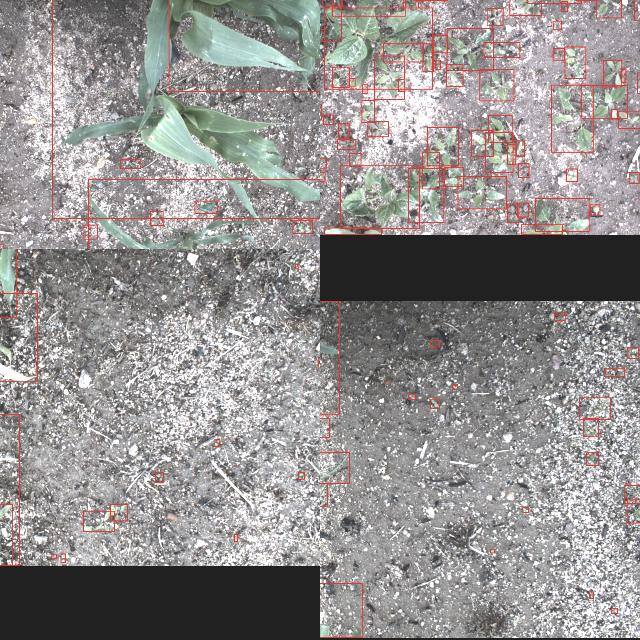crop: (51, 0, 320, 218), (88, 179, 320, 249), (168, 0, 320, 91), (324, 8, 432, 88), (339, 166, 418, 228), (0, 293, 36, 381), (0, 414, 19, 566), (320, 582, 361, 637), (331, 0, 404, 16)
weed: (550, 85, 592, 152), (446, 28, 494, 70), (534, 198, 588, 232), (408, 168, 442, 222), (458, 177, 507, 209), (581, 85, 627, 118), (374, 56, 404, 100), (427, 126, 458, 166), (484, 132, 512, 172), (479, 70, 513, 100), (320, 452, 348, 483), (320, 0, 340, 41), (382, 44, 422, 62), (564, 46, 586, 78), (579, 397, 609, 419), (82, 512, 114, 532), (487, 116, 511, 142), (422, 153, 438, 190), (483, 42, 519, 58), (471, 130, 493, 156), (602, 59, 622, 86), (509, 0, 541, 15), (595, 0, 620, 18), (520, 225, 562, 235), (324, 228, 381, 235), (443, 167, 462, 187), (618, 111, 640, 128), (446, 64, 462, 86), (626, 499, 640, 522), (332, 68, 348, 88), (624, 484, 640, 503), (582, 418, 598, 437), (367, 122, 388, 136), (486, 8, 502, 26), (110, 504, 126, 522), (292, 220, 312, 234), (422, 43, 432, 71), (195, 201, 218, 213), (362, 100, 374, 122), (433, 35, 447, 53), (506, 145, 516, 165), (83, 225, 97, 239), (508, 204, 518, 222), (336, 139, 354, 149), (150, 212, 162, 226), (516, 203, 528, 217), (586, 452, 598, 466), (320, 483, 327, 506), (120, 160, 140, 168), (604, 368, 624, 376), (320, 418, 328, 438), (552, 48, 564, 60), (348, 154, 360, 166), (566, 168, 576, 182), (518, 164, 528, 178), (338, 124, 348, 138), (626, 347, 638, 358), (628, 172, 638, 184), (515, 142, 523, 156), (402, 0, 417, 7), (589, 205, 599, 215), (322, 0, 342, 5), (323, 115, 333, 125), (429, 398, 438, 408), (620, 68, 626, 82), (552, 20, 560, 30), (155, 473, 163, 483), (554, 312, 564, 320), (398, 79, 404, 91), (429, 339, 438, 346), (610, 109, 616, 119), (561, 1, 567, 11), (348, 78, 354, 88), (361, 84, 367, 94), (434, 60, 440, 68), (214, 439, 220, 447), (298, 472, 304, 480), (320, 159, 325, 168), (320, 172, 324, 181), (610, 608, 616, 614), (233, 534, 237, 542), (60, 554, 64, 562), (317, 358, 320, 368), (50, 555, 56, 559), (522, 508, 528, 512), (589, 592, 593, 598), (452, 384, 456, 390), (408, 394, 414, 398), (294, 264, 298, 268), (490, 550, 494, 552)
